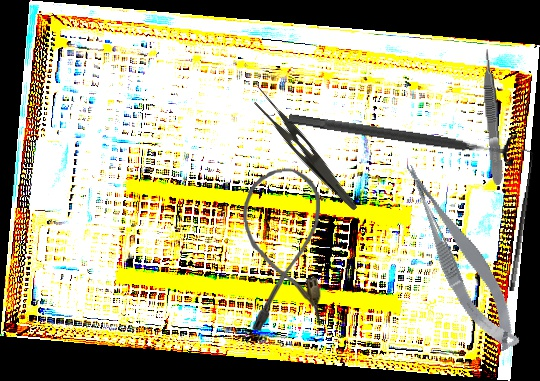Cannula: (241, 167, 325, 332)
Dressing Forceps: (243, 85, 371, 212)
Fixation Ring: (286, 100, 518, 168)
Hook Surgical: (498, 148, 538, 292)
Micro Scissor: (397, 151, 526, 361)
Tissue Forceps: (480, 48, 505, 186)
